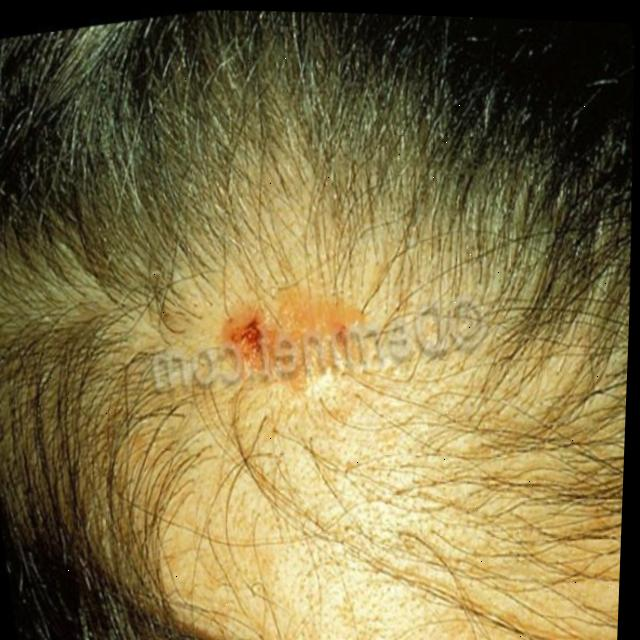Eczema: (230, 263, 367, 372)
